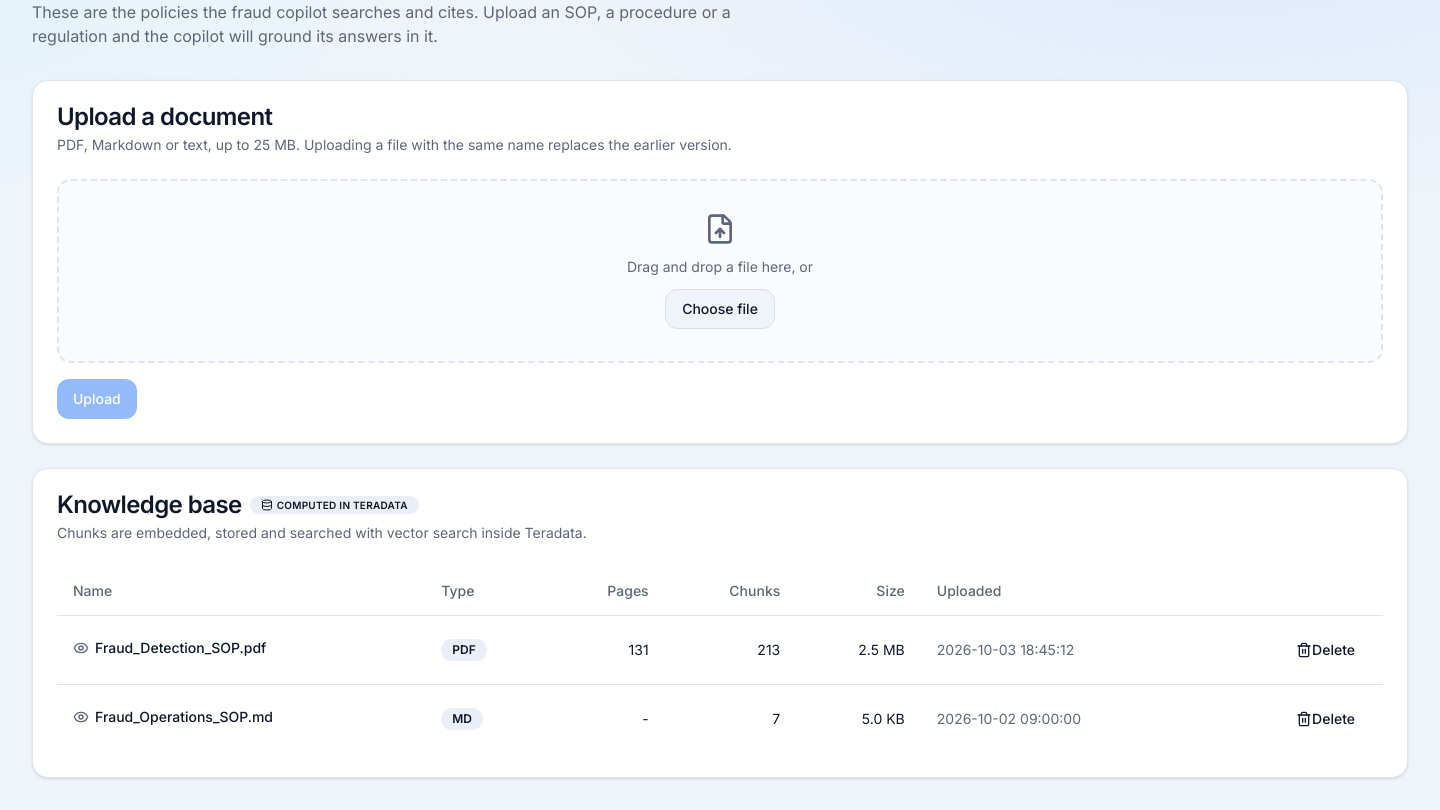
Scenario: Documents page: delete › shows the backend's detail inside the dialog when delete fails
This screenshot has width=1440, height=810.
(page scrolled)
Expected: the button "Fraud_Operations_SOP.md" is shown, top-left (73, 707), bottom-right (273, 727)
Click the button with aria-label "Delete Fraud_Operations_SOP.md". click: (1326, 718)
box: top-left (1284, 700), bottom-right (1367, 736)
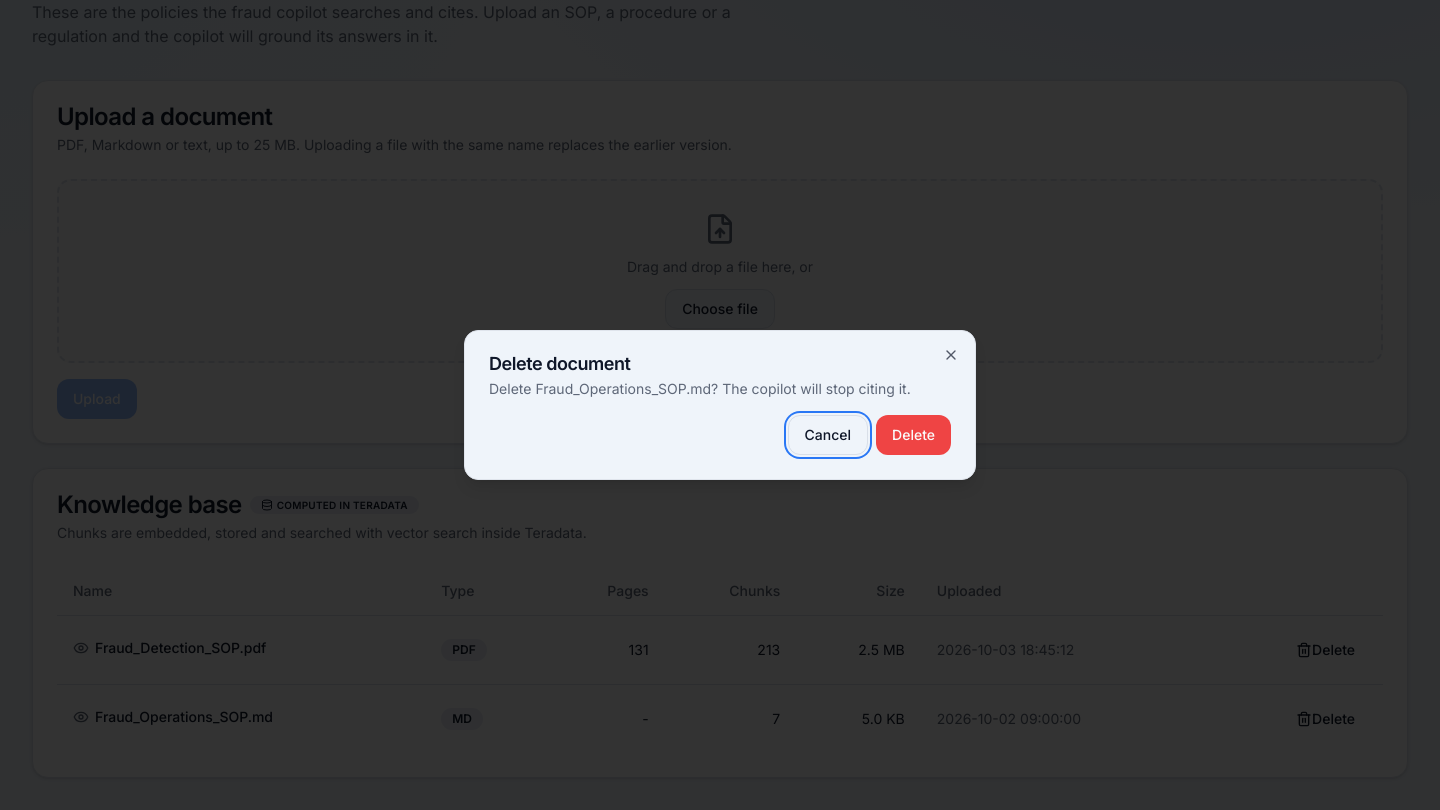
Click the button "Delete". click: (914, 435)
box: top-left (876, 415), bottom-right (951, 455)
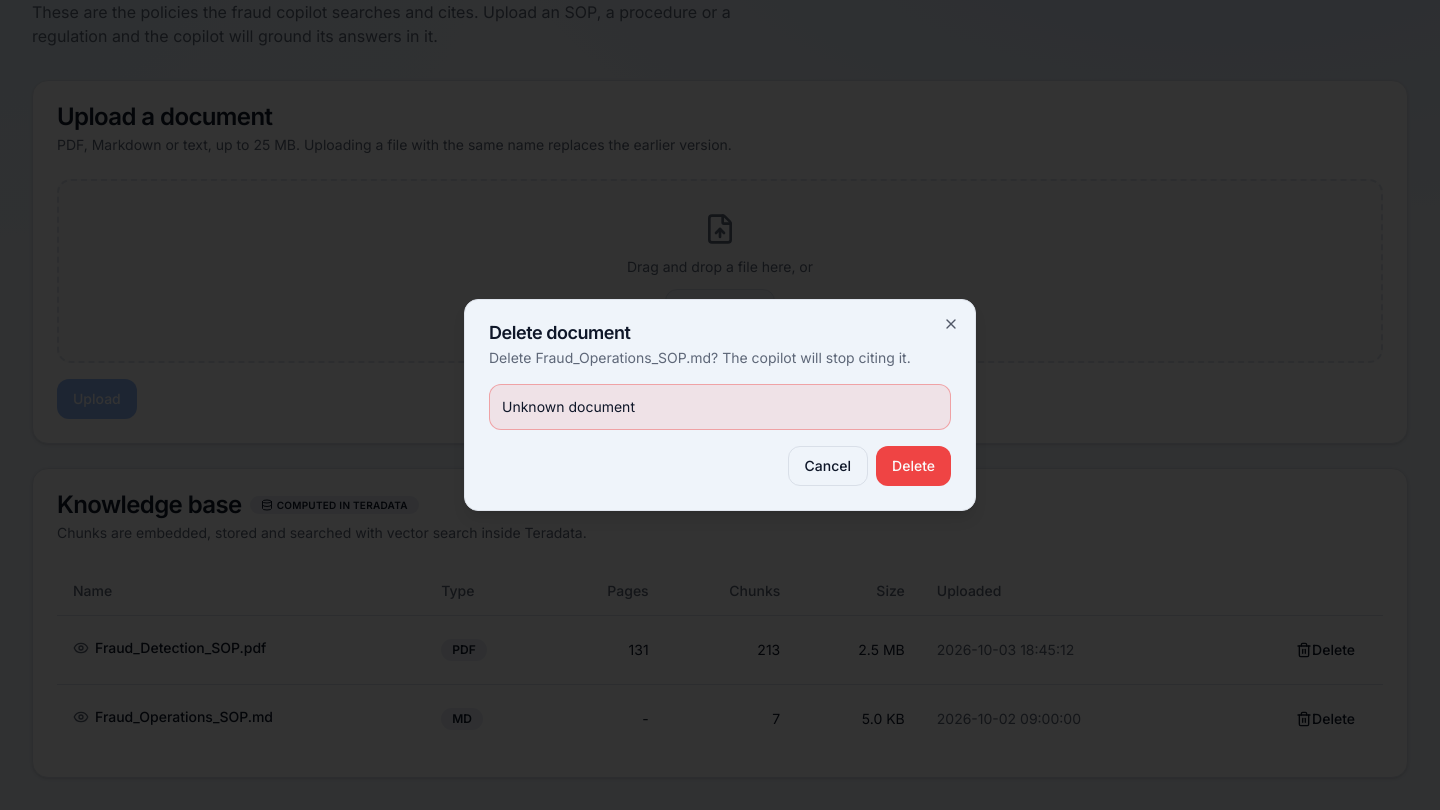
Expected: the text "Unknown document" is shown, top-left (489, 384), bottom-right (951, 430)
